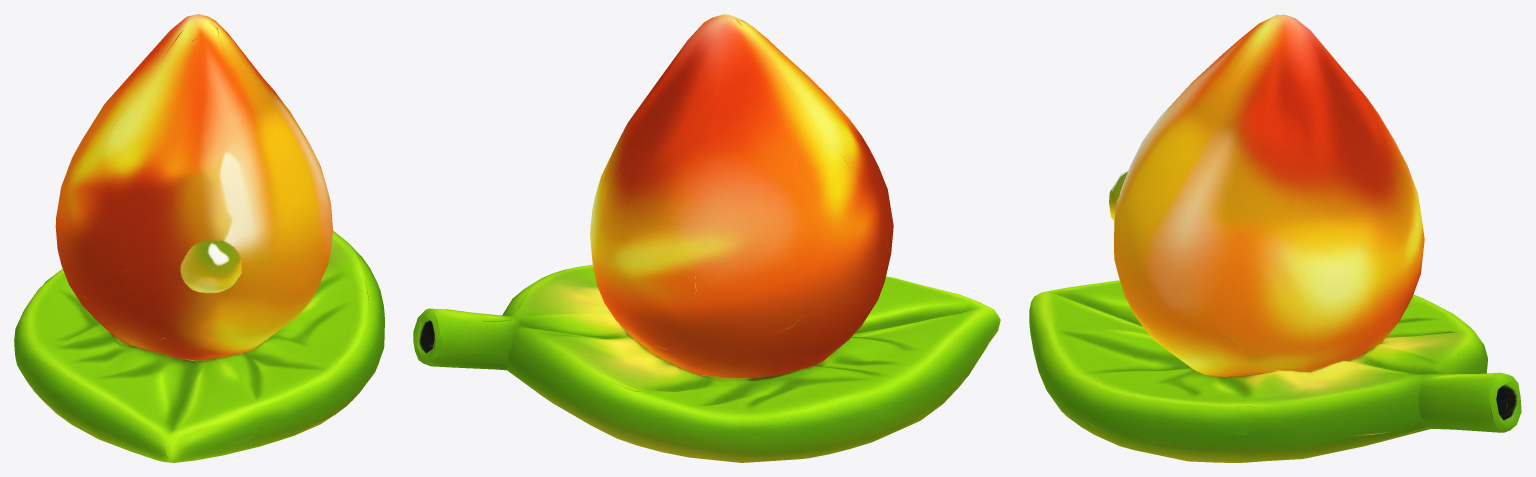
File: HoneyDrop.glb
The picture shows the model from 3 angles, left to right: view 1: azimuth 30°, elevation 25°; view 2: azimuth 150°, elevation 25°; view 3: azimuth 270°, elevation 25°; orthographic projection. The views are drawn at different scales.
Visible parts, largest first — view 1: geometry_0; view 2: geometry_0; view 3: geometry_0.
Part boxes in pixels (x1=…): geometry_0: x1=14, y1=14, x2=384, y2=462; geometry_0: x1=413, y1=14, x2=1000, y2=462; geometry_0: x1=1029, y1=14, x2=1521, y2=462.
Bounding box in the file's own units: 0.9479 × 0.9245 × 1.
Materials: 1 (1 with a texture image).
